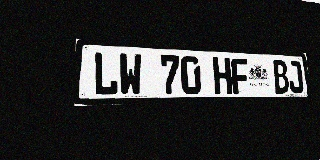0: (180, 56, 201, 95)
7: (159, 55, 181, 95)
B: (272, 60, 290, 93)
F: (230, 58, 250, 94)
H: (213, 57, 233, 94)
J: (287, 61, 304, 93)
L: (93, 52, 118, 96)
W: (119, 53, 142, 96)
